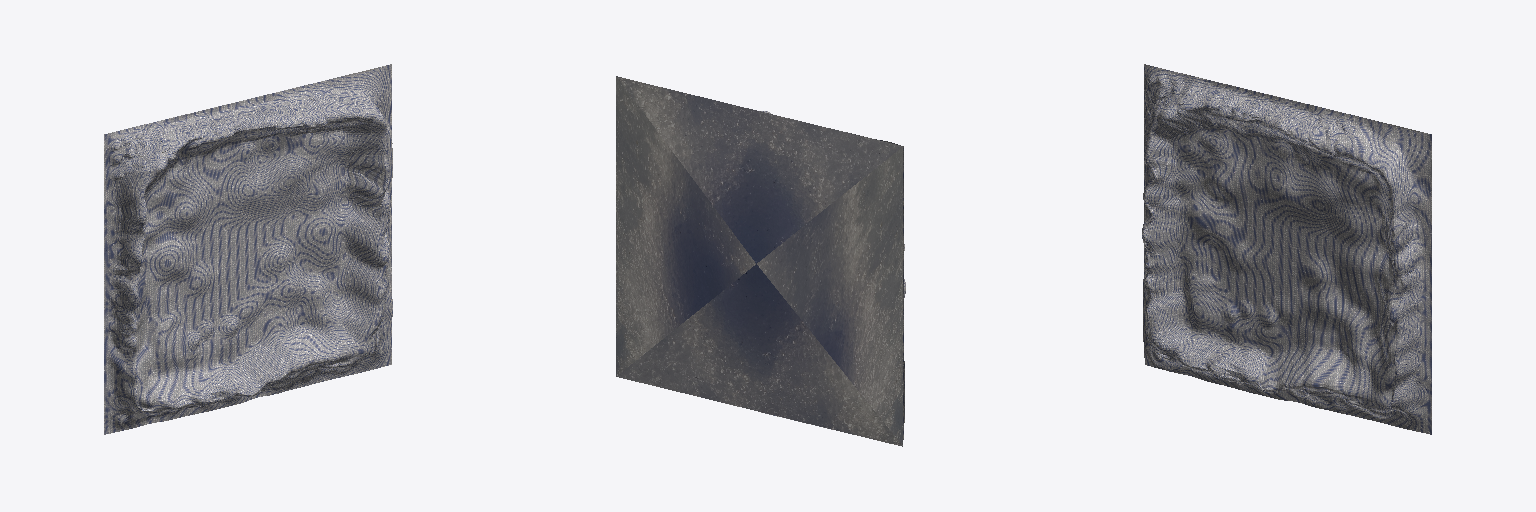
The picture shows the model from 3 angles: view 1: azimuth 30°, elevation 25°; view 2: azimuth 150°, elevation 25°; view 3: azimuth 330°, elevation 25°; orthographic projection.
Visible parts, largest first — view 1: Ground.003.010, Ground.015.014, Ground.011.015, Ground.009.001, Ground.004.007, Ground.004.005, Ground.006.002, Ground.011.002, Ground.002.013, Ground.013.003, Ground.011.009, Ground.004.010 (+22 smaller); view 2: Bottom; view 3: Ground.009.001, Ground.001.012, Ground.010.011, Ground.005.006, Ground.010.012, Ground.006.008, Ground.005.012, Ground.003.011, Ground.005.003, Ground.009.006, Ground.004.001, Ground.006.004 (+13 smaller).
Boxes of the visible parts, x1=… form: Ground.003.010: x1=248, y1=342, x2=279, y2=375; Ground.015.014: x1=124, y1=148, x2=156, y2=177; Ground.011.015: x1=341, y1=266, x2=376, y2=291; Ground.009.001: x1=266, y1=90, x2=300, y2=123; Ground.004.007: x1=104, y1=264, x2=135, y2=294; Ground.004.005: x1=104, y1=244, x2=138, y2=269; Ground.006.002: x1=230, y1=363, x2=260, y2=396; Ground.011.002: x1=342, y1=229, x2=377, y2=252; Ground.002.013: x1=339, y1=188, x2=380, y2=208; Ground.013.003: x1=345, y1=304, x2=373, y2=331; Ground.011.009: x1=341, y1=247, x2=380, y2=270; Ground.004.010: x1=104, y1=224, x2=137, y2=253; Bottom: x1=616, y1=76, x2=902, y2=446; Ground.009.001: x1=1290, y1=104, x2=1325, y2=137; Ground.001.012: x1=1162, y1=322, x2=1194, y2=350; Ground.010.011: x1=1412, y1=131, x2=1431, y2=170; Ground.005.006: x1=1146, y1=246, x2=1180, y2=269; Ground.010.012: x1=1381, y1=150, x2=1413, y2=178; Ground.006.008: x1=1236, y1=356, x2=1269, y2=384; Ground.005.012: x1=1148, y1=282, x2=1182, y2=306; Ground.003.011: x1=1310, y1=354, x2=1341, y2=384; Ground.005.003: x1=1146, y1=265, x2=1182, y2=287; Ground.009.006: x1=1274, y1=99, x2=1305, y2=131; Ground.004.001: x1=1144, y1=188, x2=1178, y2=210; Ground.006.004: x1=1214, y1=350, x2=1242, y2=380.
Size of the model in its own units: 1006 by 1005 by 138.
Materials: 1 (1 with a texture image).